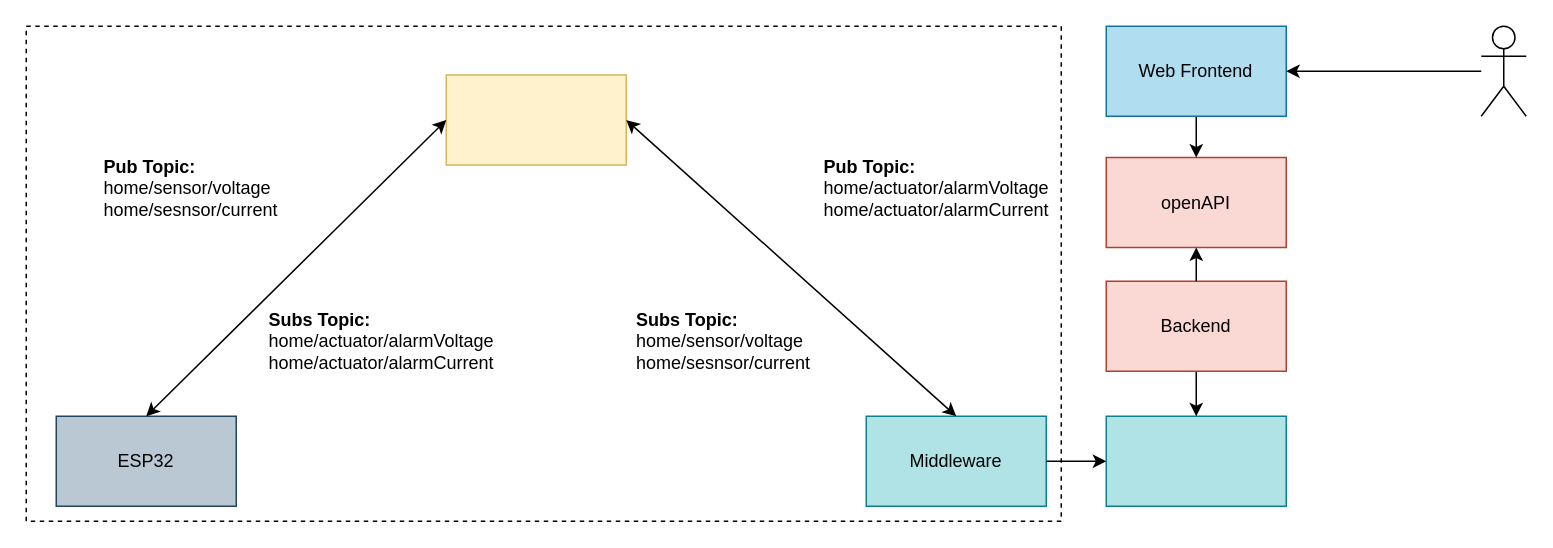
Image size: 1553x548. Some labels were removed from this diagram. The centre of each missing label's shape, as x and y in pixels:
"MQTT Broker (Hivemq)" belongs at (535,119).
"TSDB (InfluxDB)" belongs at (1195,460).
"User" belongs at (1503,70).
